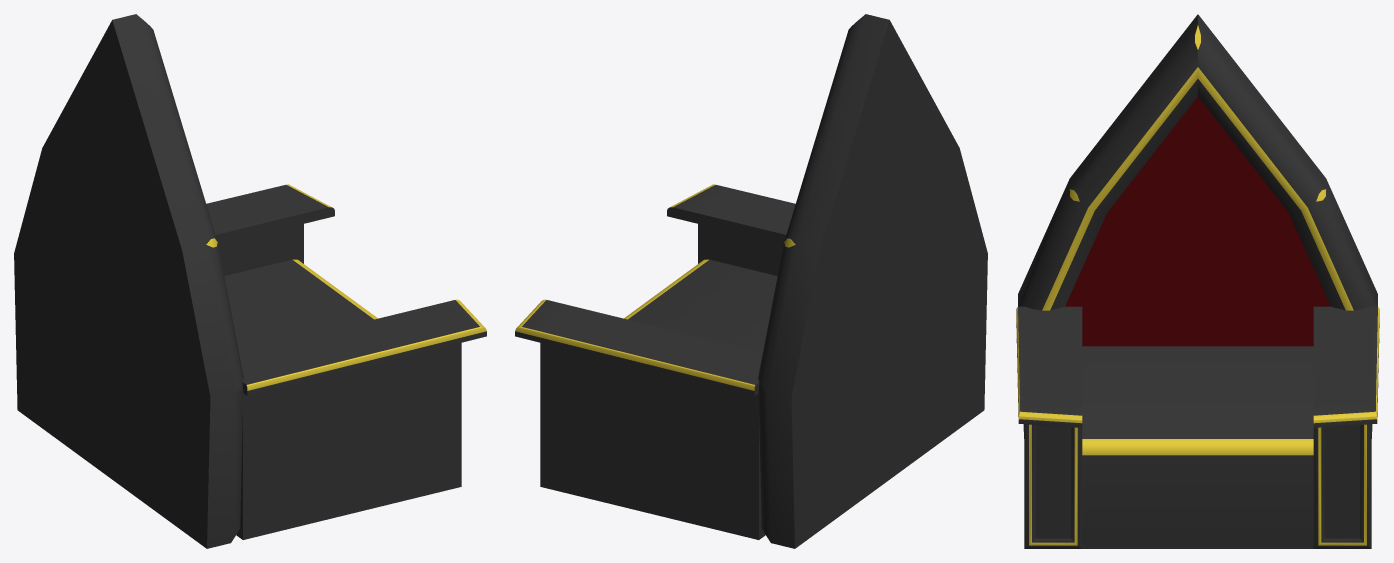
The model's file is stone throne.fbx.
3 views of the same model, side by side, from view 1: azimuth 30°, elevation 25°; view 2: azimuth 150°, elevation 25°; view 3: azimuth 270°, elevation 25° (orthographic). The views are drawn at different scales.
Visible parts, largest first — view 1: Cube; view 2: Cube; view 3: Cube.
Part boxes in pixels (box(x1,y1,x2,y2)): Cube: box(14, 14, 486, 548); Cube: box(515, 14, 987, 548); Cube: box(1016, 14, 1379, 548).
Size of the model in its own units: 261 by 402 by 314.
